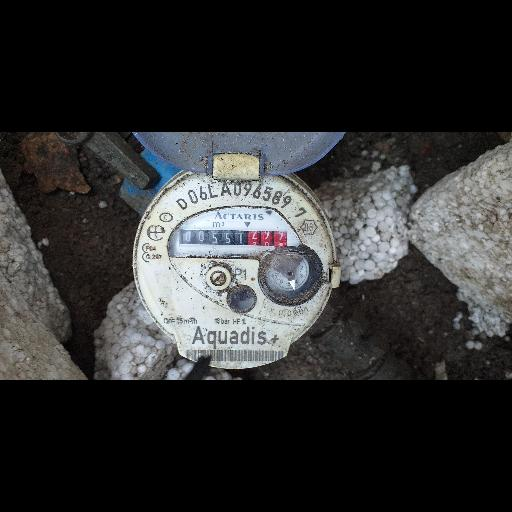0: (182, 230, 195, 245), (196, 230, 207, 245)
1: (235, 231, 246, 246)
2: (248, 232, 260, 247)
5: (222, 231, 233, 246), (209, 230, 220, 244)
9: (273, 232, 287, 250), (261, 232, 273, 247)
border_water_meter_number: (179, 221, 290, 251)
